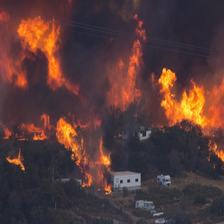fire: (4, 8, 116, 198), (122, 11, 223, 163)
